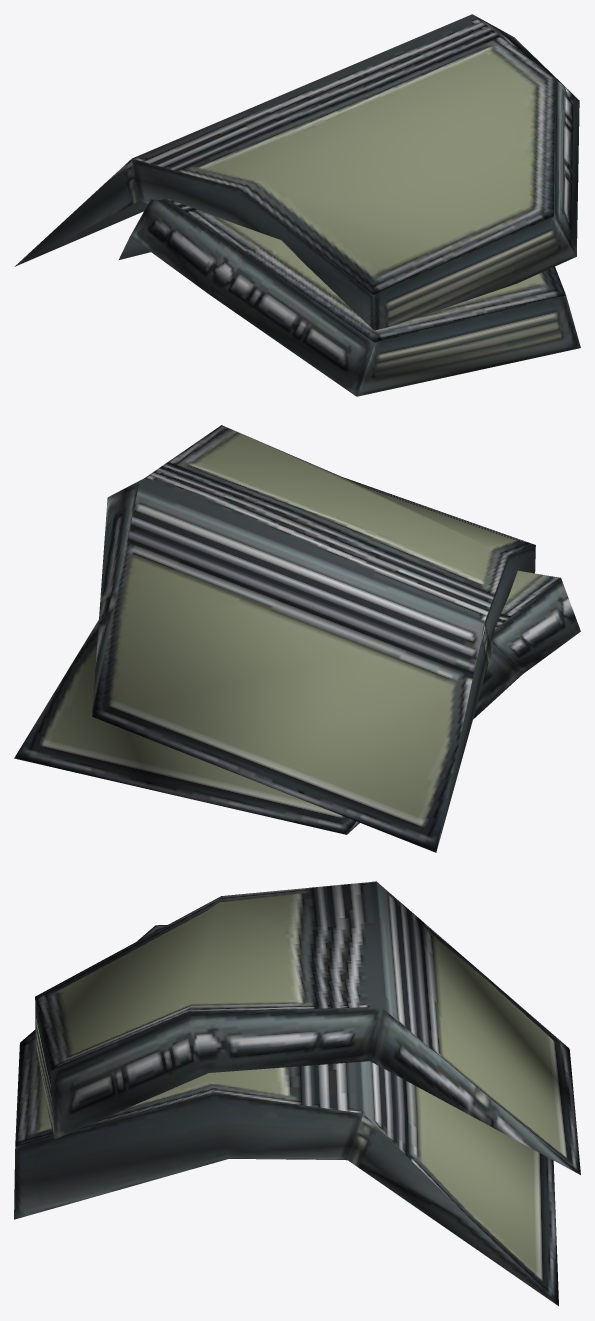
File: ShoulderPads4__FDC.glb
The picture shows the model from 3 angles, top to bottom: view 1: azimuth 30°, elevation 25°; view 2: azimuth 150°, elevation 25°; view 3: azimuth 270°, elevation 25°; orthographic projection. The views are drawn at different scales.
Parts seen in each view (by area): view 1: ShoulderPads4; view 2: ShoulderPads4; view 3: ShoulderPads4.
Part boxes in pixels (x1,y1,x2,y2): ShoulderPads4: [14, 14, 580, 396]; ShoulderPads4: [14, 425, 580, 852]; ShoulderPads4: [14, 881, 580, 1306].
Size of the model in its own units: 10.24 by 5.34 by 10.11.
1 material, 1 textured.
